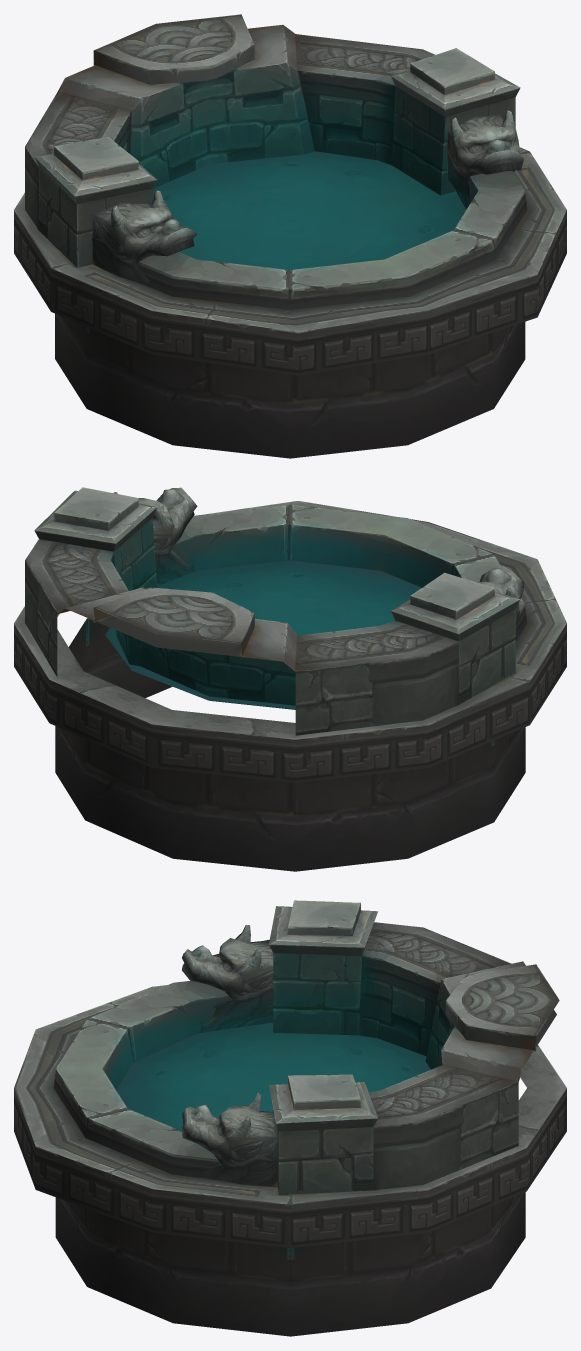
Rendered from build_06.FBX.
3 views of the same model, one above another, from view 1: azimuth 30°, elevation 25°; view 2: azimuth 150°, elevation 25°; view 3: azimuth 270°, elevation 25° (orthographic).
Parts seen in each view (by area): view 1: fb_jjc_zj_02_a; view 2: fb_jjc_zj_02_a; view 3: fb_jjc_zj_02_a.
Part boxes in pixels (x1,y1,x2,y2): fb_jjc_zj_02_a: (14, 14, 566, 458); fb_jjc_zj_02_a: (14, 487, 566, 871); fb_jjc_zj_02_a: (14, 900, 566, 1336).
Bounding box in the file's own units: 804 × 380 × 804.
